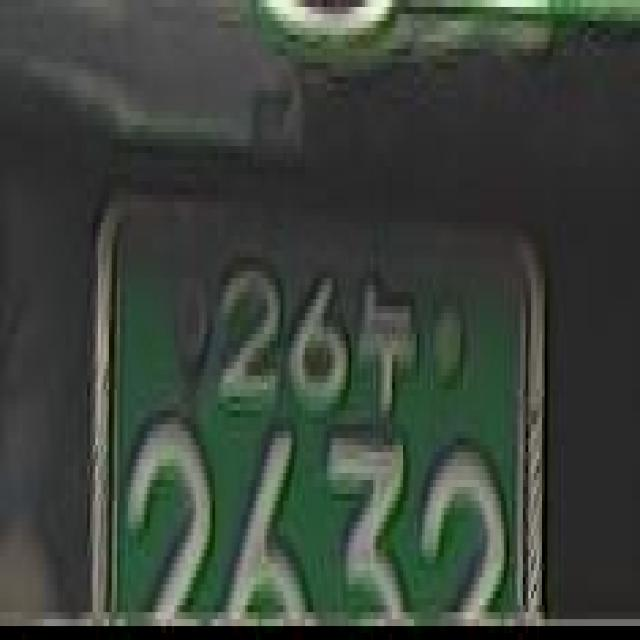illegal_plate: (78, 158, 568, 628)
